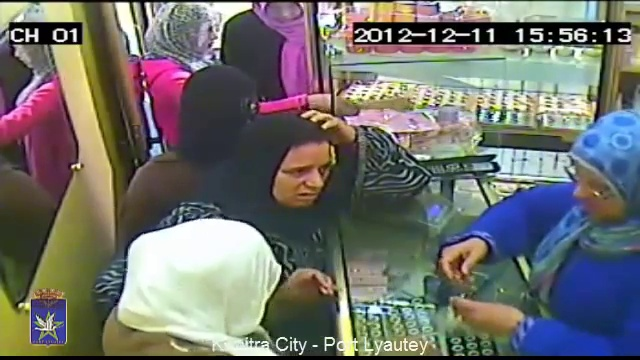face: (272, 154, 333, 210), (572, 165, 625, 222)
